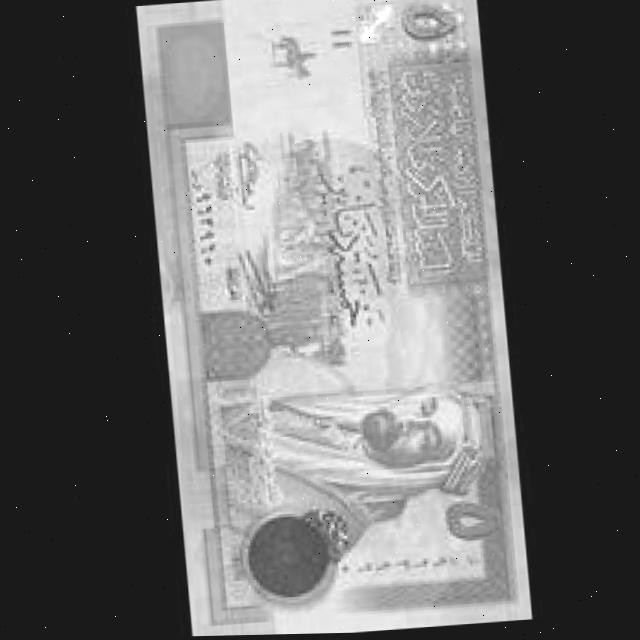banknote: (135, 0, 533, 638)
